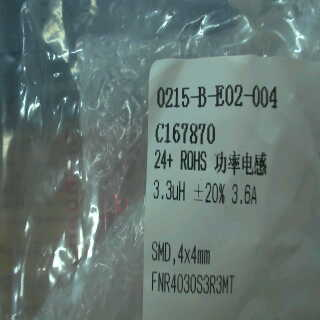3.3uH: (149, 169, 191, 211)
